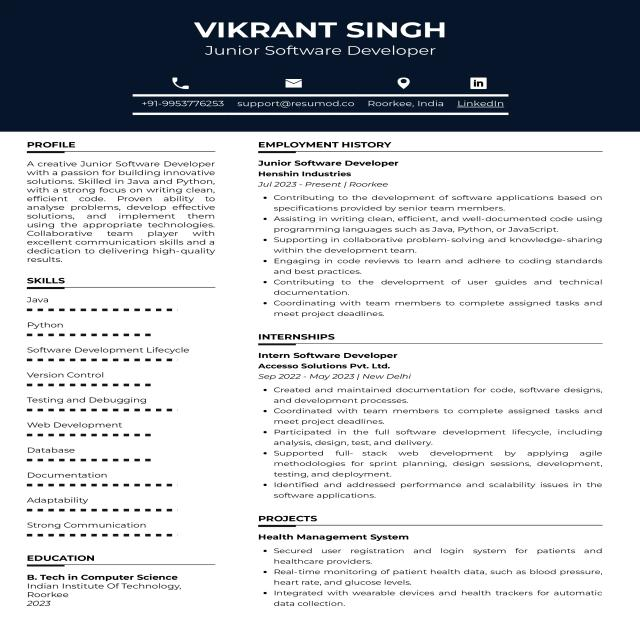contact: (133, 94, 514, 119)
education: (19, 550, 200, 618)
experience: (245, 136, 612, 322), (248, 329, 617, 509)
header: (186, 15, 467, 62)
projects: (252, 513, 618, 616)
skills: (21, 274, 210, 547)
summary: (21, 136, 234, 267)
